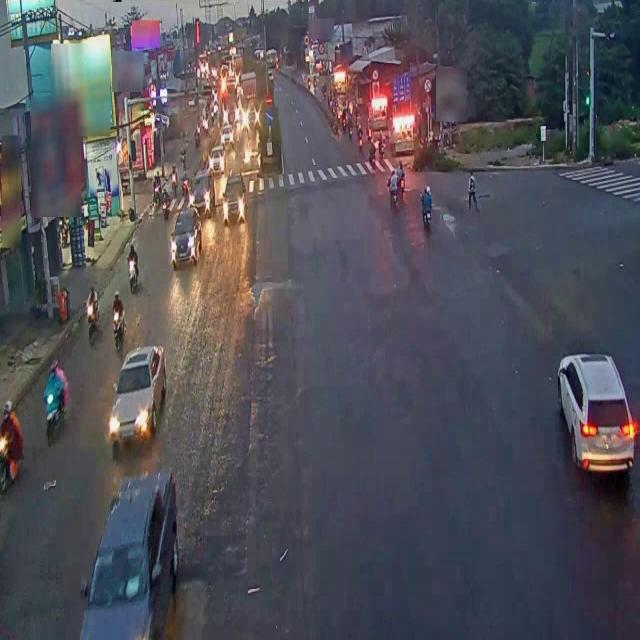car: (78, 472, 180, 639), (553, 348, 639, 480), (106, 335, 167, 450), (170, 208, 202, 267)
motorcycle: (0, 398, 24, 491), (44, 359, 66, 436), (111, 286, 127, 352), (84, 287, 100, 345), (126, 241, 140, 288)
